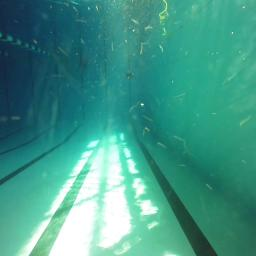Full: (126, 70, 134, 80)
